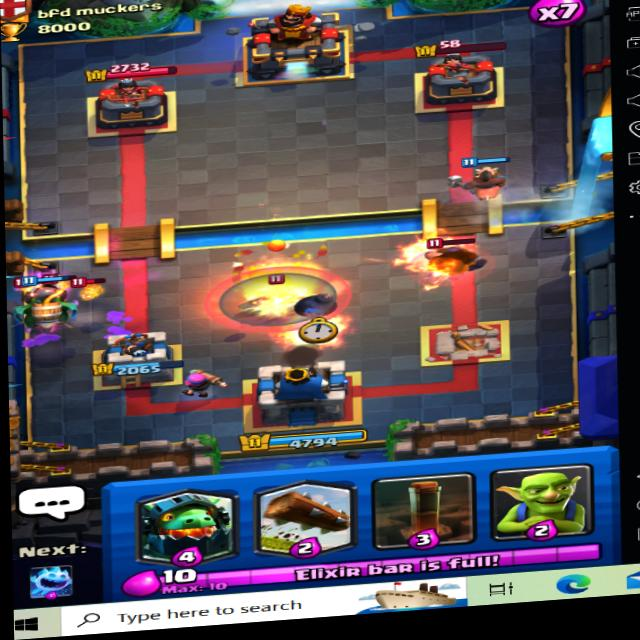executioner: (420, 233, 488, 278)
phoenix: (224, 236, 344, 306)
